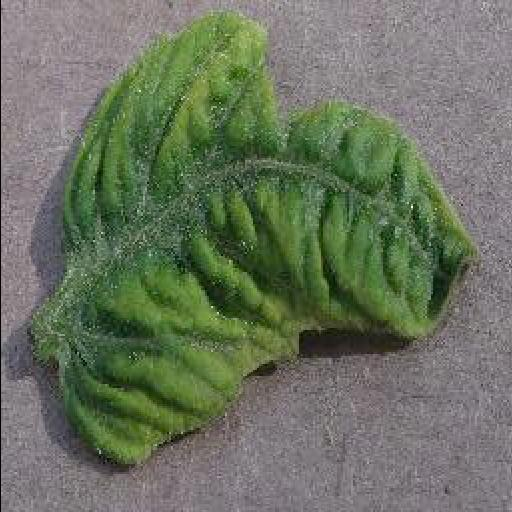disease_tomato: (47, 12, 485, 466)
